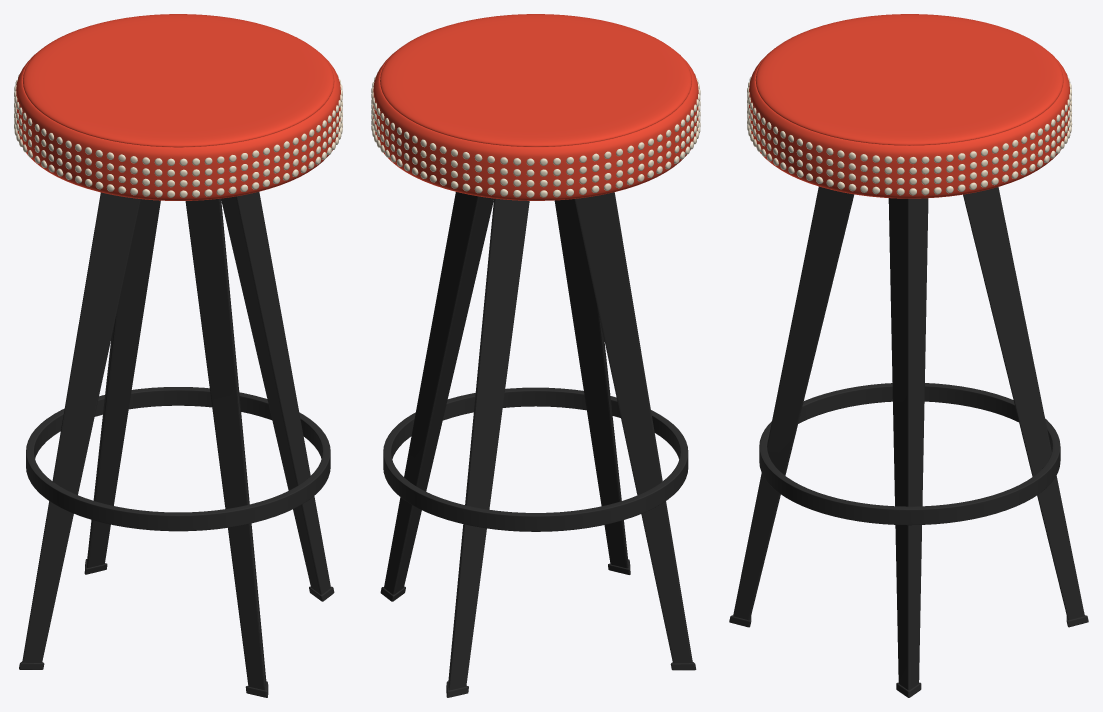
Rendered from kruk.fbx.
The picture shows the model from 3 angles, left to right: view 1: azimuth 30°, elevation 25°; view 2: azimuth 150°, elevation 25°; view 3: azimuth 270°, elevation 25°; orthographic projection.
Visible parts, largest first — view 1: Diesel by Moroso_Bar Chair N240623; view 2: Diesel by Moroso_Bar Chair N240623; view 3: Diesel by Moroso_Bar Chair N240623.
Part boxes in pixels (left/top/right/bottom): Diesel by Moroso_Bar Chair N240623: left=14, top=14, right=342, bottom=697; Diesel by Moroso_Bar Chair N240623: left=371, top=14, right=700, bottom=697; Diesel by Moroso_Bar Chair N240623: left=729, top=14, right=1088, bottom=697.
Bounding box in the file's own units: 529 × 889 × 529.
